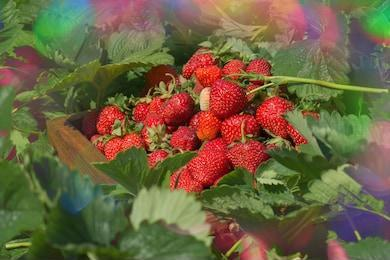Fresa: (253, 91, 299, 141), (206, 75, 251, 121), (178, 43, 221, 81), (93, 100, 132, 137), (222, 55, 249, 85)
